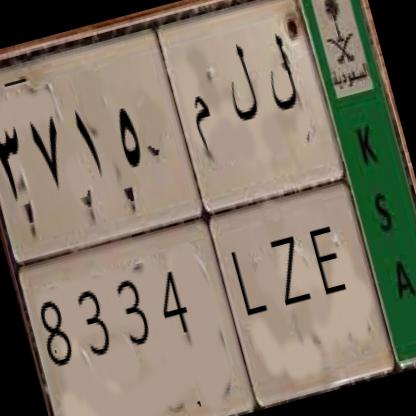english: (8, 162, 393, 416)
